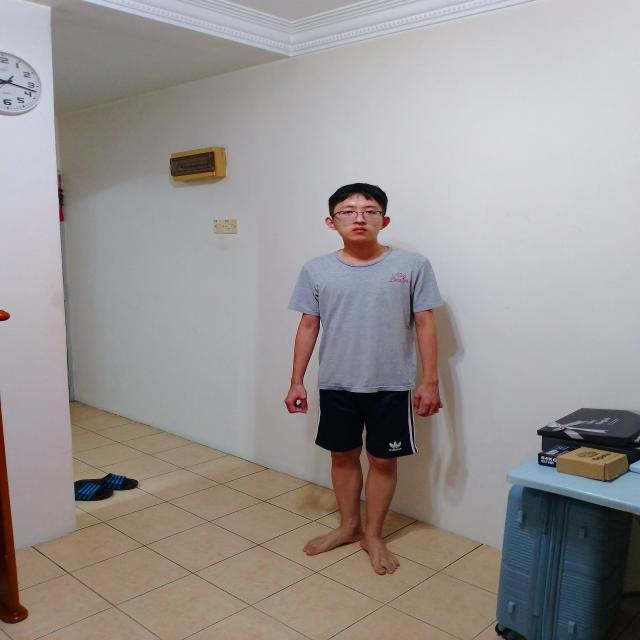person_without_labcoat: (285, 183, 443, 575)
